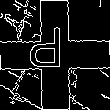P_S: (36, 30, 74, 80)
